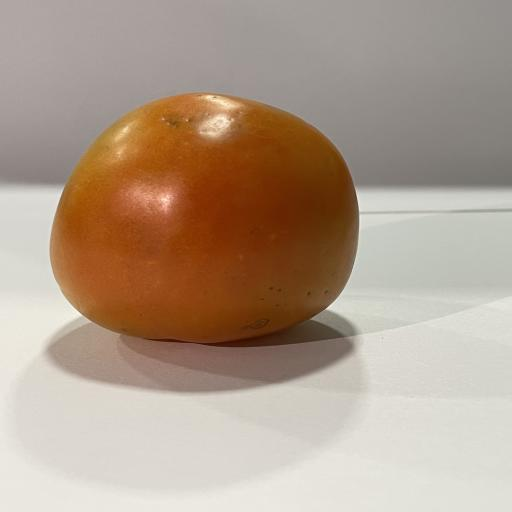unripe: (51, 93, 359, 343)
